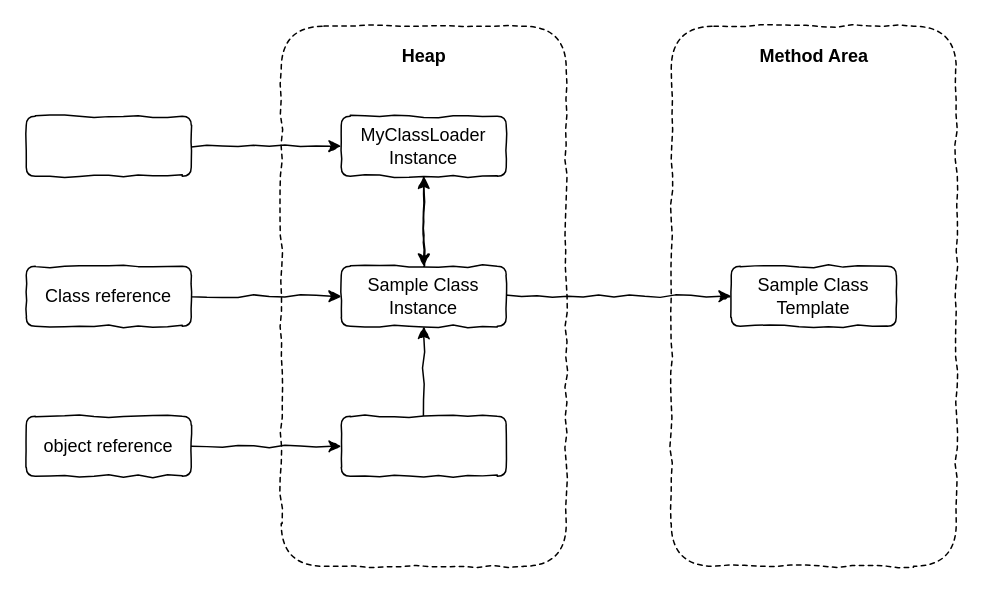
This 983x593 diagram has some shape labels left out. Here are the shapes that lost their labels. From the top down, the centre of each, then its label:
(108,145): loader reference
(423,445): Sample Object
